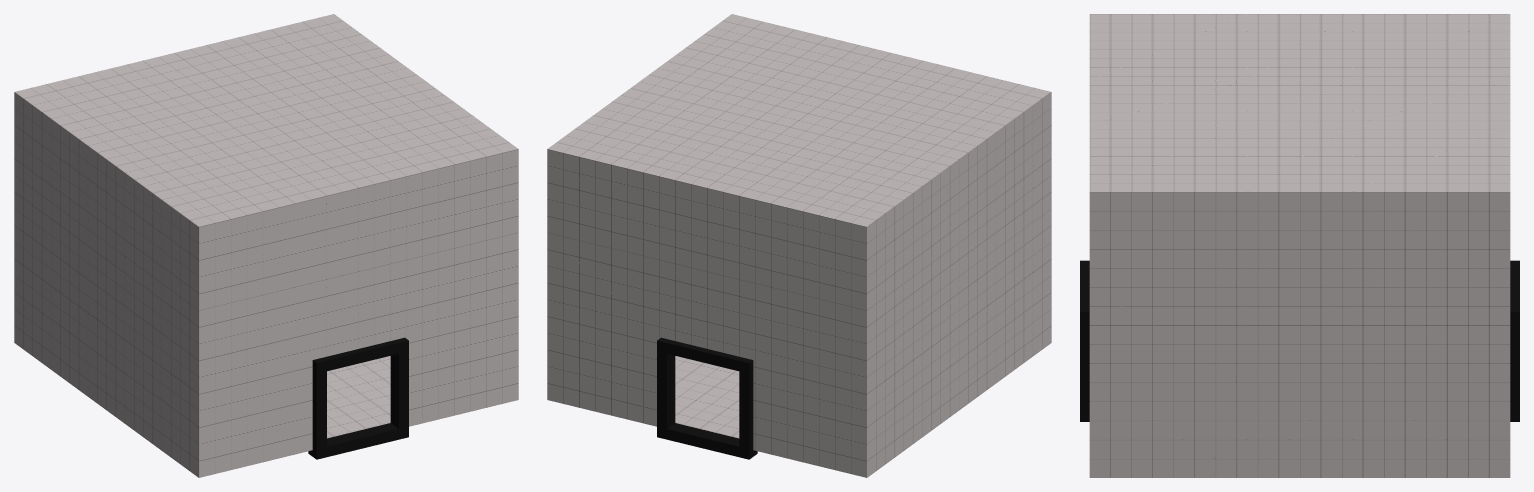
File: Komnata1.fbx
3 views of the same model, side by side, from view 1: azimuth 30°, elevation 25°; view 2: azimuth 150°, elevation 25°; view 3: azimuth 270°, elevation 25° (orthographic). The views are drawn at different scales.
Parts seen in each view (by area): view 1: Cube.006, Cube.011; view 2: Cube.006, Cube.013; view 3: Cube.006, Cube.011, Cube.013.
Boxes of the visible parts, x1,y1,x2,y2 form: Cube.006: (14,14,518,477); Cube.011: (308,337,408,459); Cube.006: (547,14,1051,477); Cube.013: (657,337,757,459); Cube.006: (1089,14,1510,477); Cube.011: (1080,260,1089,421); Cube.013: (1510,260,1519,421).
Bounding box in the file's own units: 2000 × 1539 × 2090.
